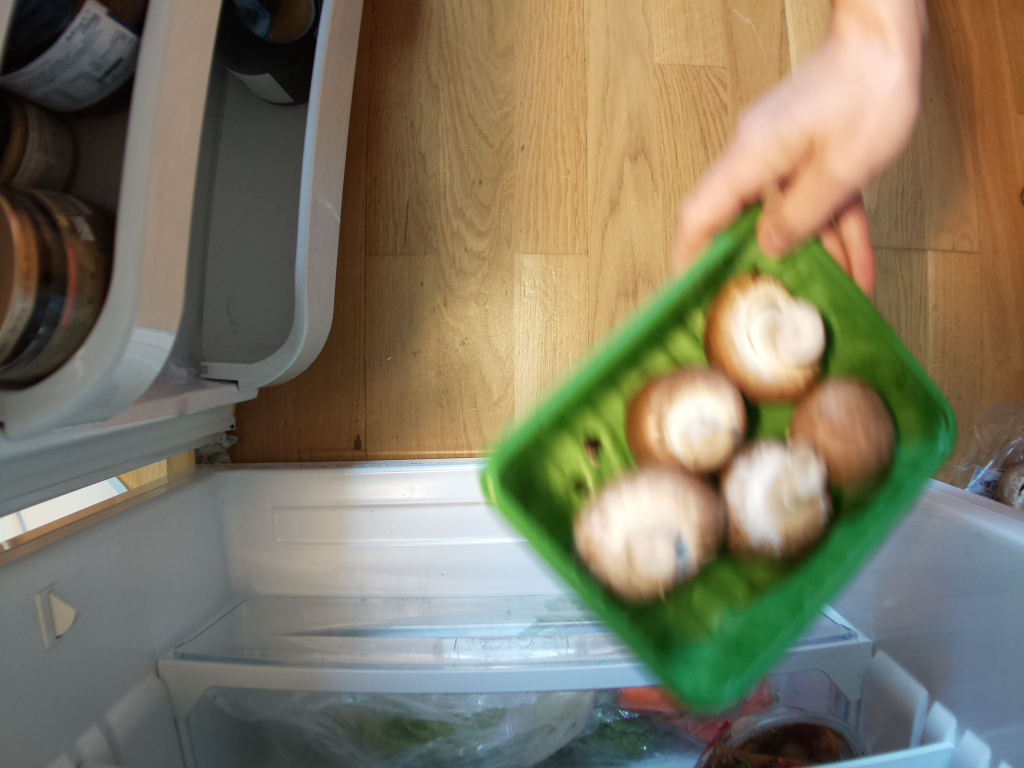mushrooms: (480, 216, 952, 725)
